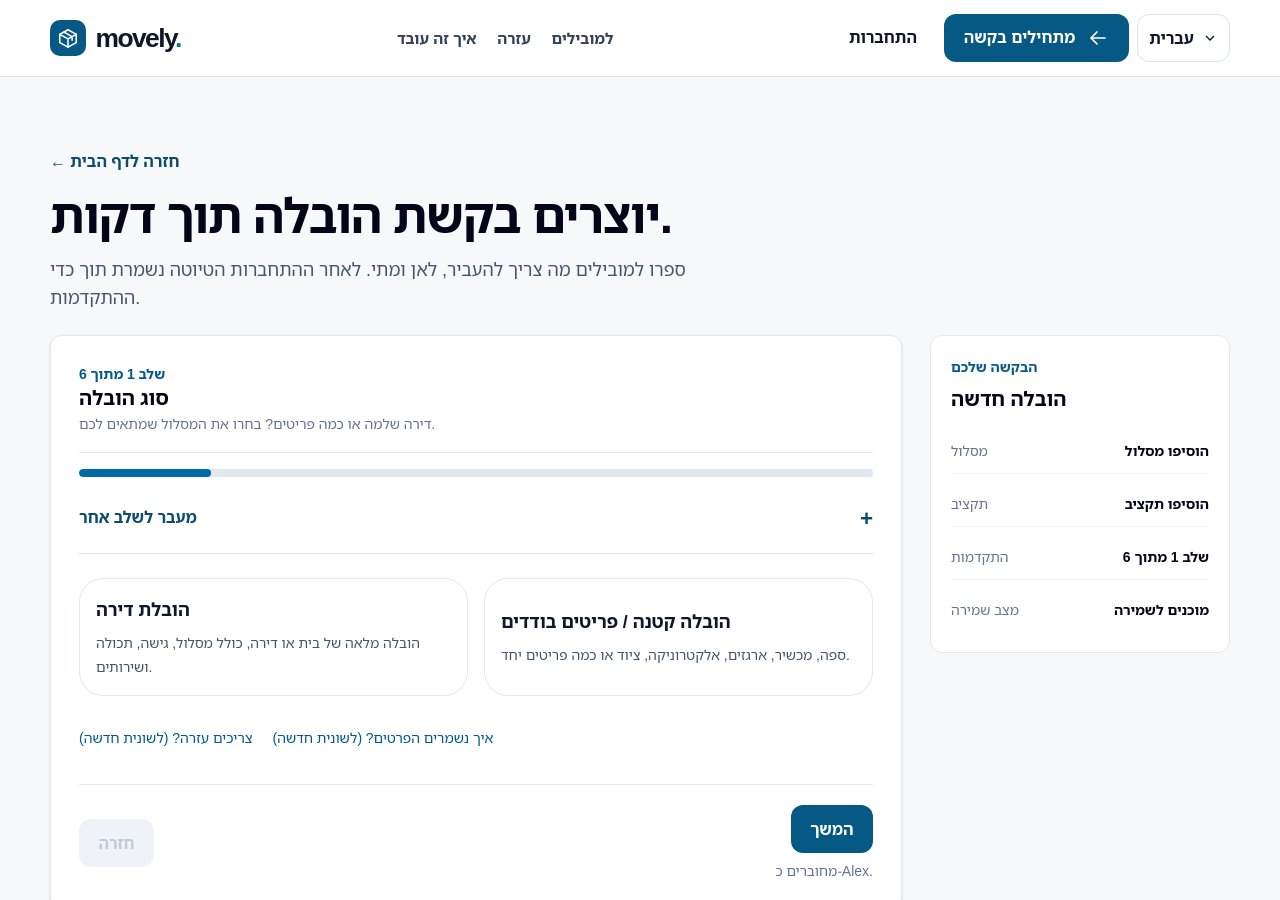
Scenario: WIZARD-005 Back navigation retains saved values.
Expected: the button "המשך" is enabled, [791,805,873,853]
Click the button "הובלת דירה הובלה מלאה של בית או דירה" at (274, 637), box [79,578,468,696]
(page scrolled)
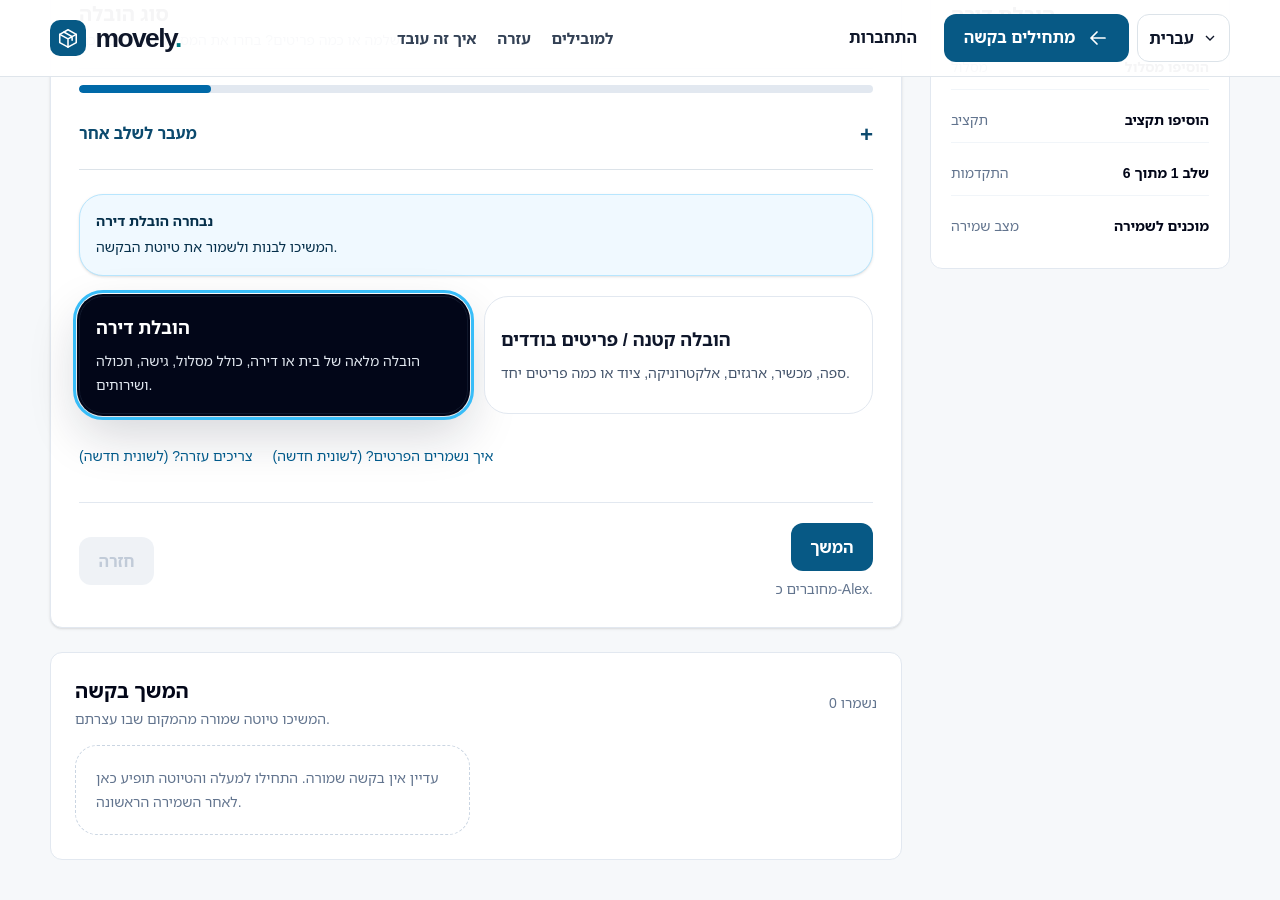
Click the button "המשך" at (832, 547), box [791,523,873,571]
(page scrolled)
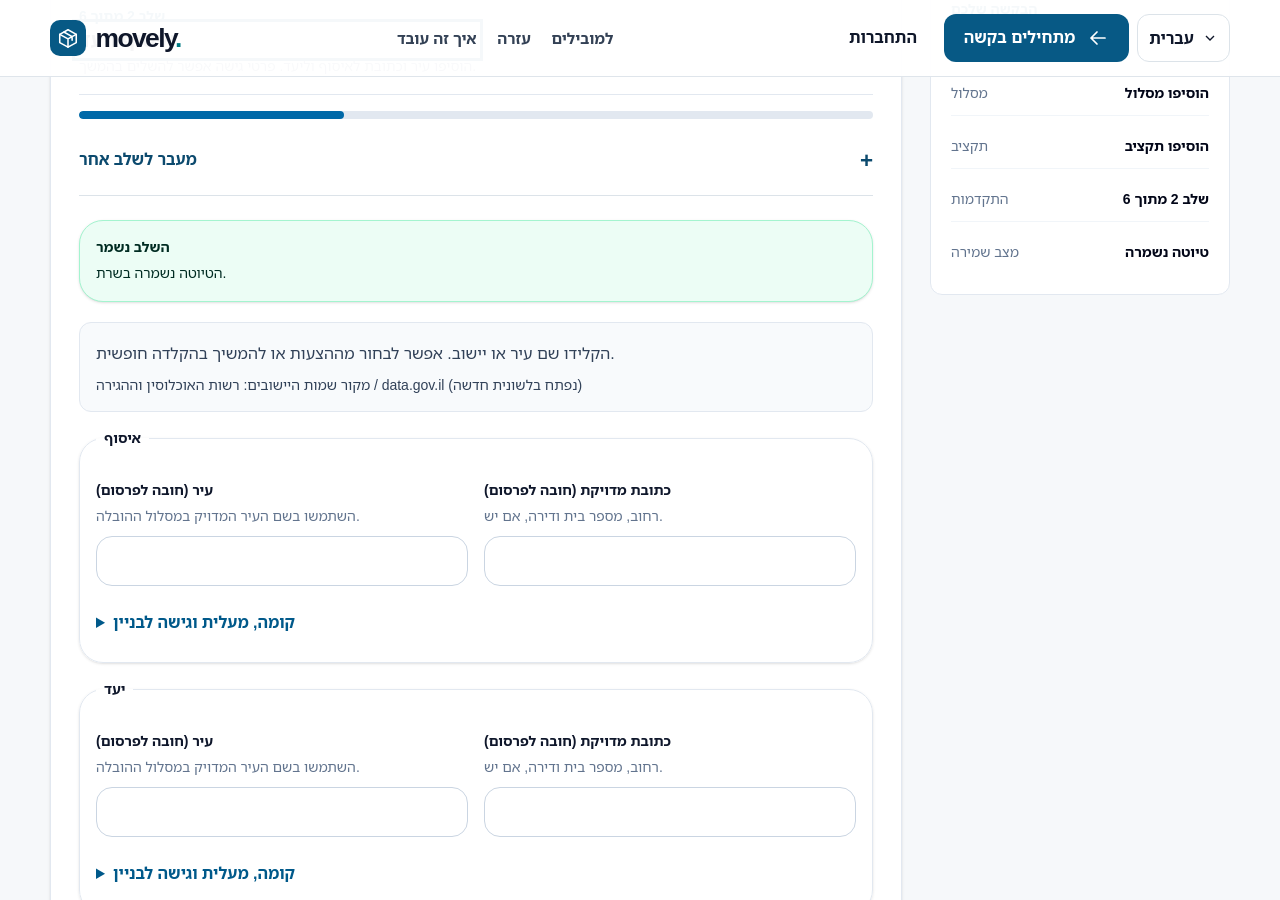
Type "Tel Aviv" into the field named "איסוף עיר" at (282, 561), box [96,536,468,586]
(page scrolled)
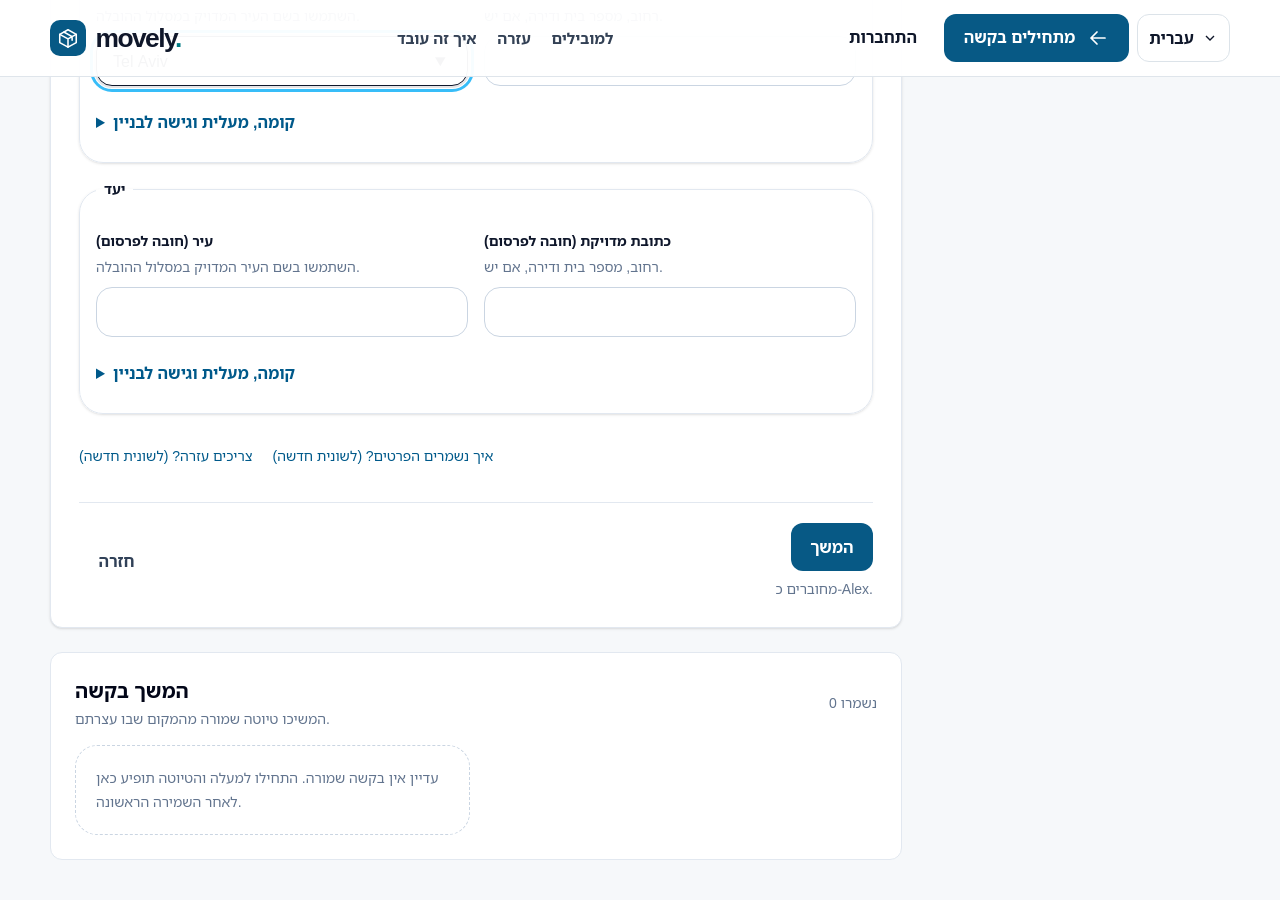
Click the button "המשך" at (832, 547), box [791,523,873,571]
(page scrolled)
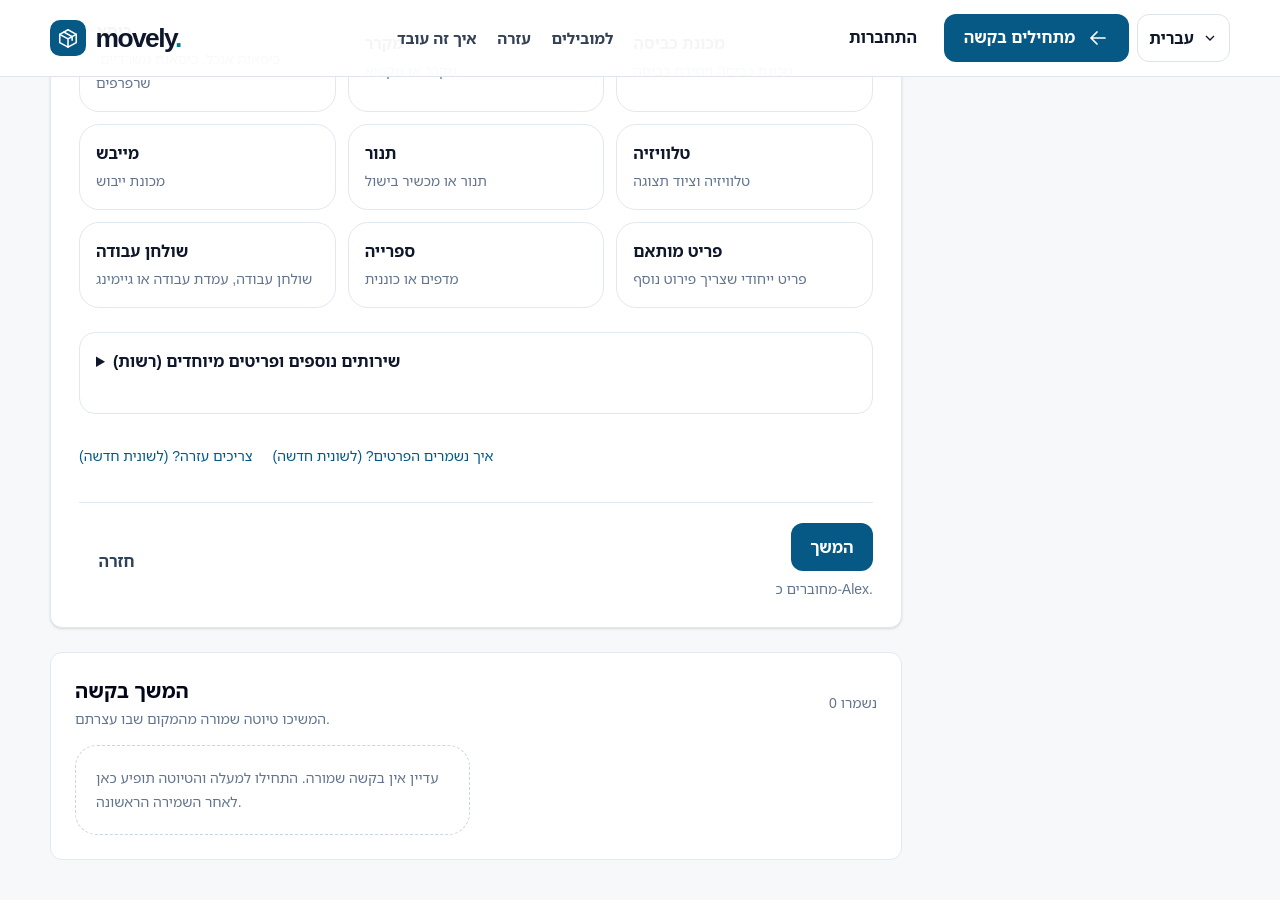
Click the button "חזרה" at (116, 561), box [79,537,154,585]
(page scrolled)
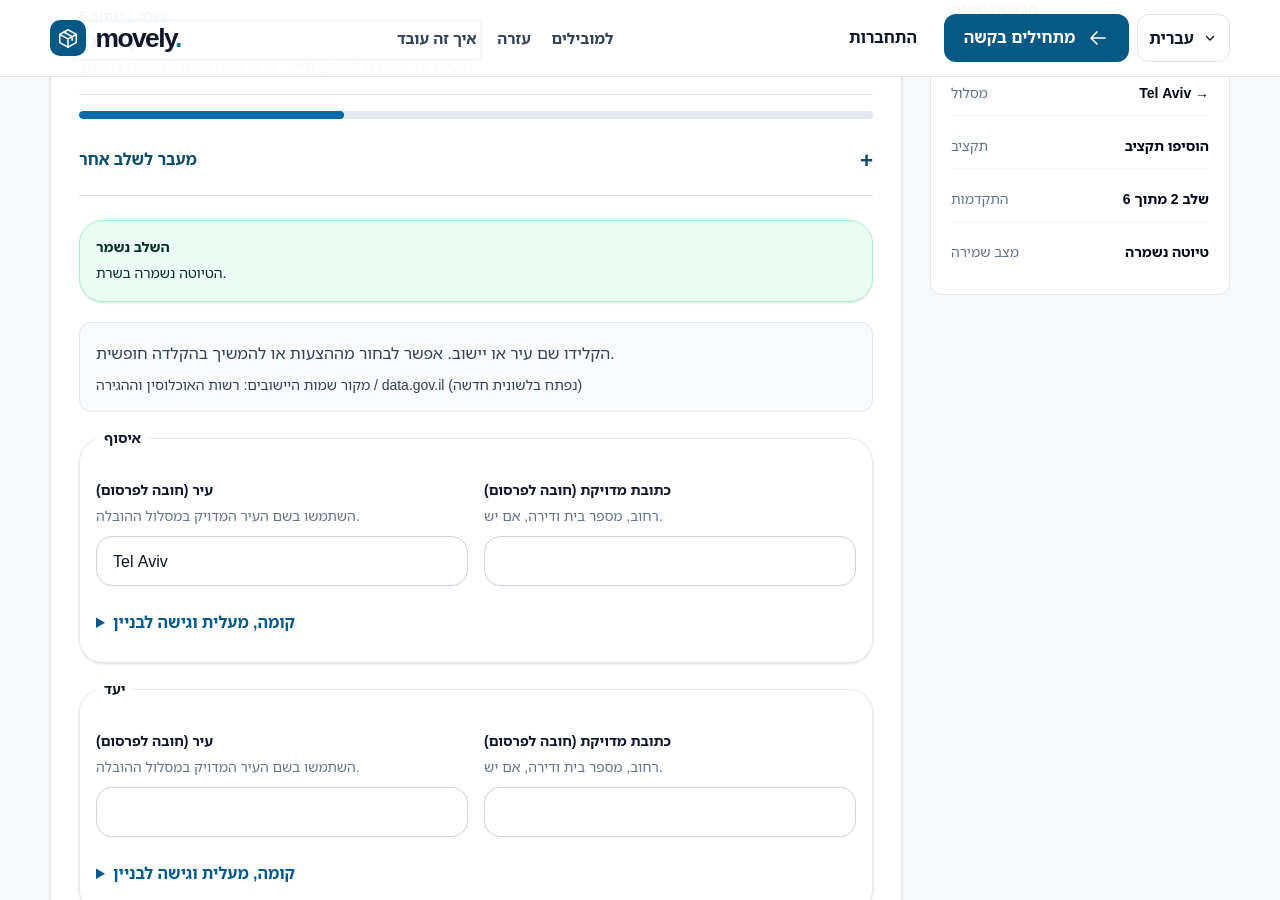
Now the 1st field showing "Tel Aviv" is shown, box [96,536,468,586]
